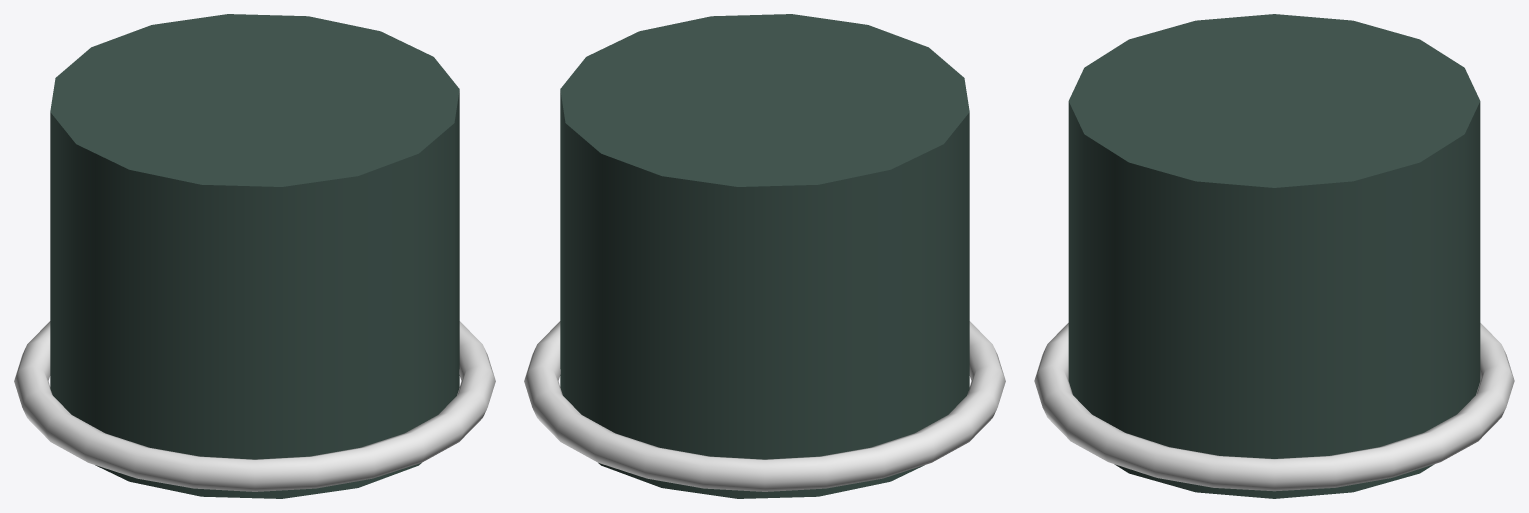
Rendered from Tubo.FBX.
3 views of the same model, side by side, from view 1: azimuth 30°, elevation 25°; view 2: azimuth 150°, elevation 25°; view 3: azimuth 270°, elevation 25° (orthographic).
Visible parts, largest first — view 1: Cylinder001, Torus001; view 2: Cylinder001, Torus001; view 3: Cylinder001, Torus001.
Boxes of the visible parts, x1,y1,x2,y2 form: Cylinder001: [50, 14, 459, 498]; Torus001: [14, 321, 495, 491]; Cylinder001: [560, 14, 969, 498]; Torus001: [524, 321, 1005, 491]; Cylinder001: [1068, 14, 1480, 498]; Torus001: [1034, 323, 1514, 491].
Bounding box in the file's own units: 140 × 100 × 140.
